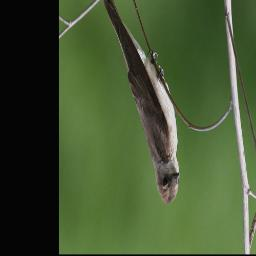Swallow: (101, 0, 180, 206)
